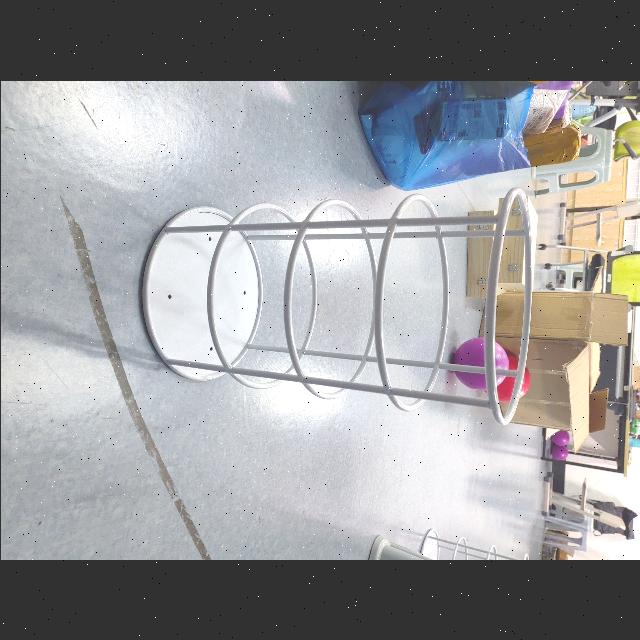P: (453, 336, 511, 394), (550, 444, 568, 462), (550, 432, 568, 448)
S: (137, 185, 536, 428)
